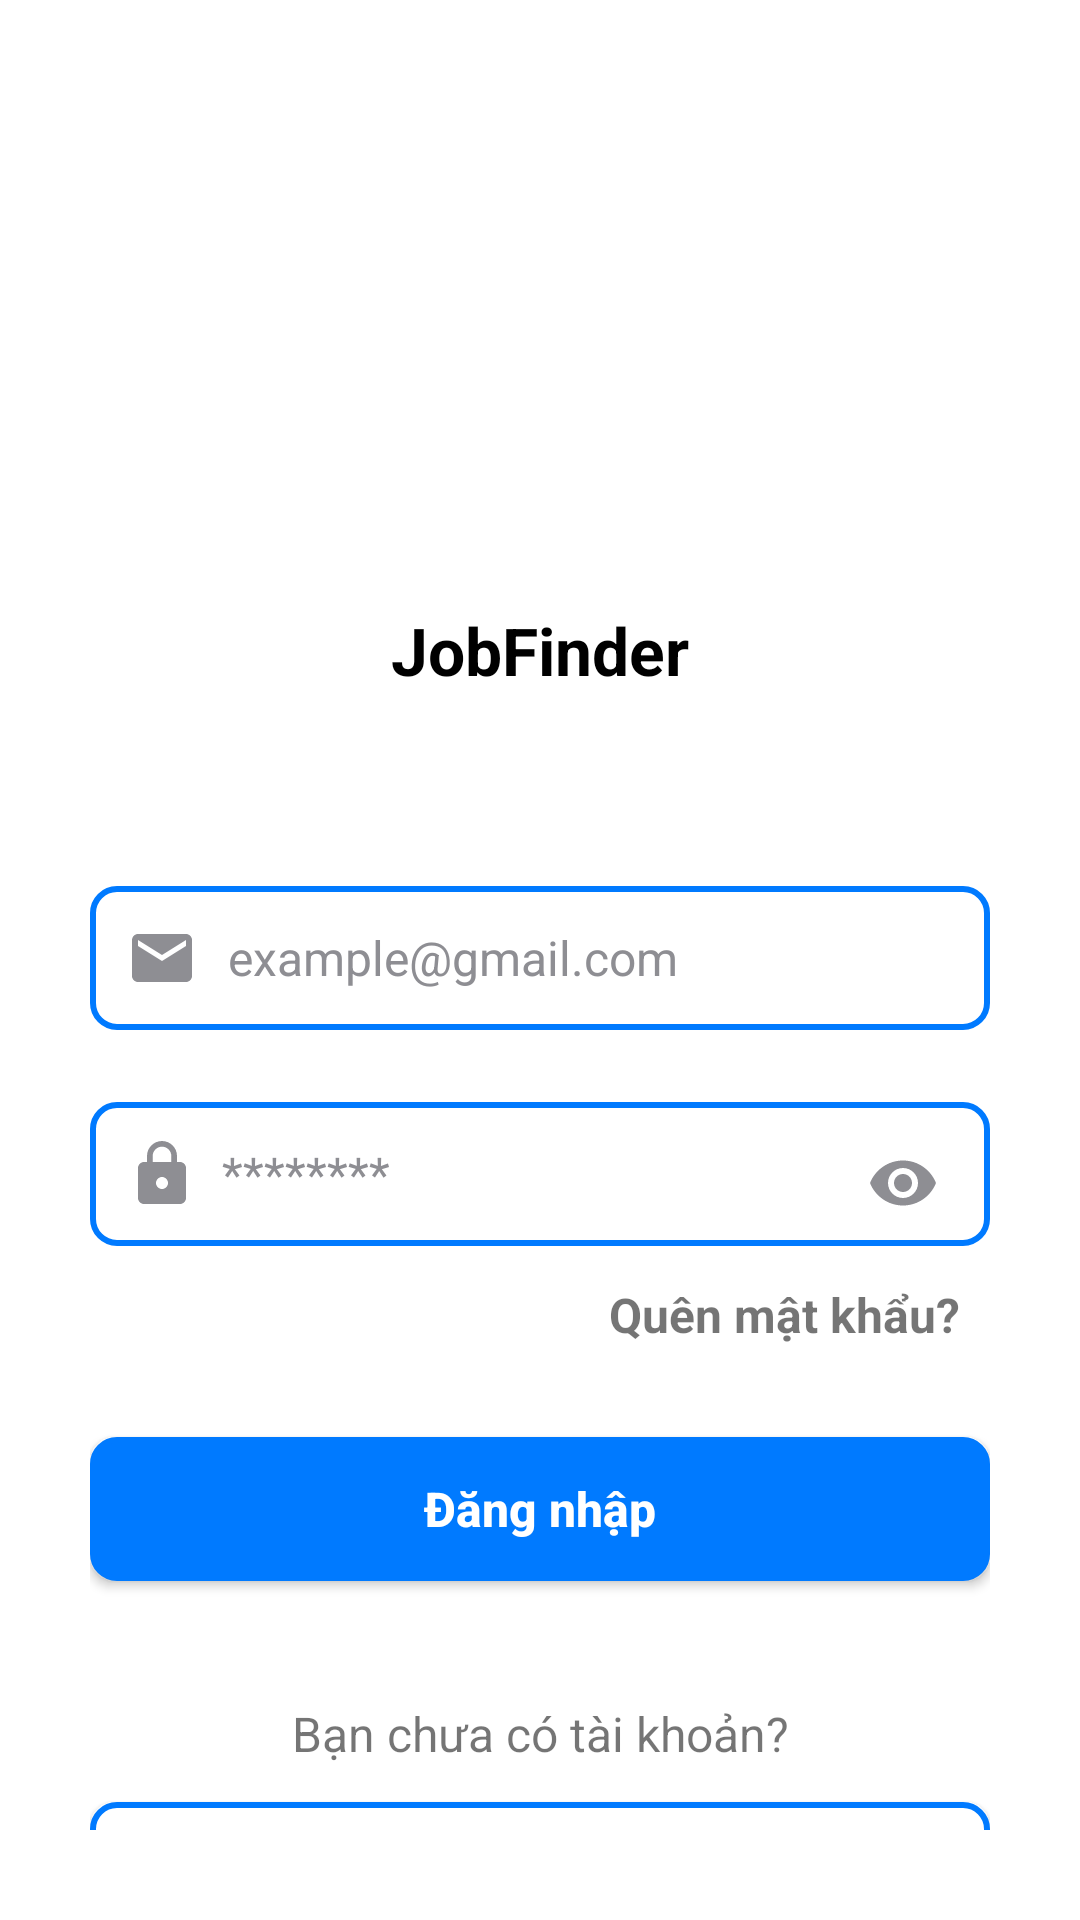

Screen size 1080w x 1920h. Icon name, then its center in pixels as [x,y]:
eye: [903,1183]
